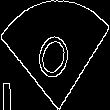O_SW: (31, 21, 79, 89)
